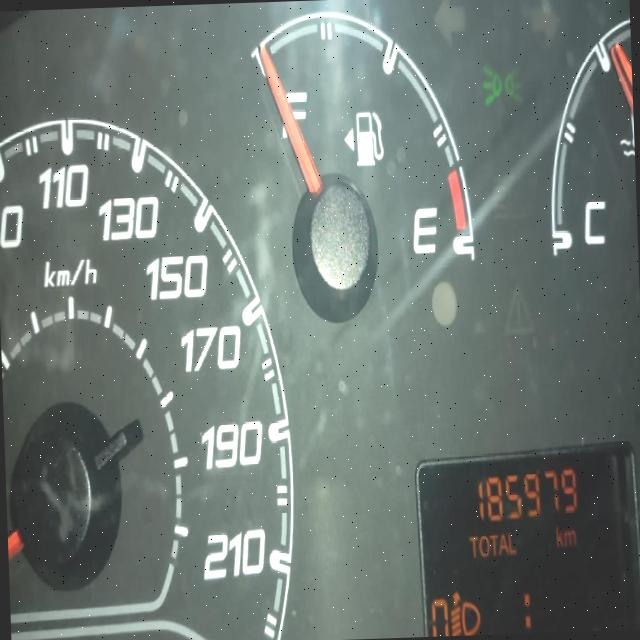odometer: (407, 443, 640, 636)
